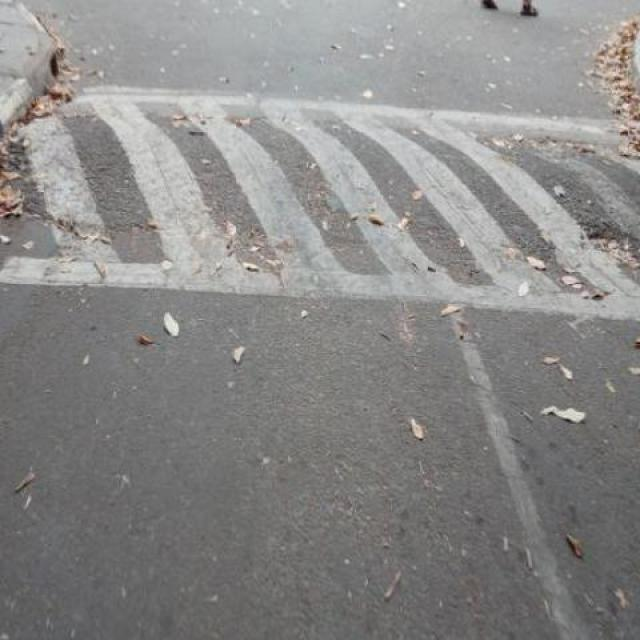Speed Bump: (44, 82, 639, 316)
